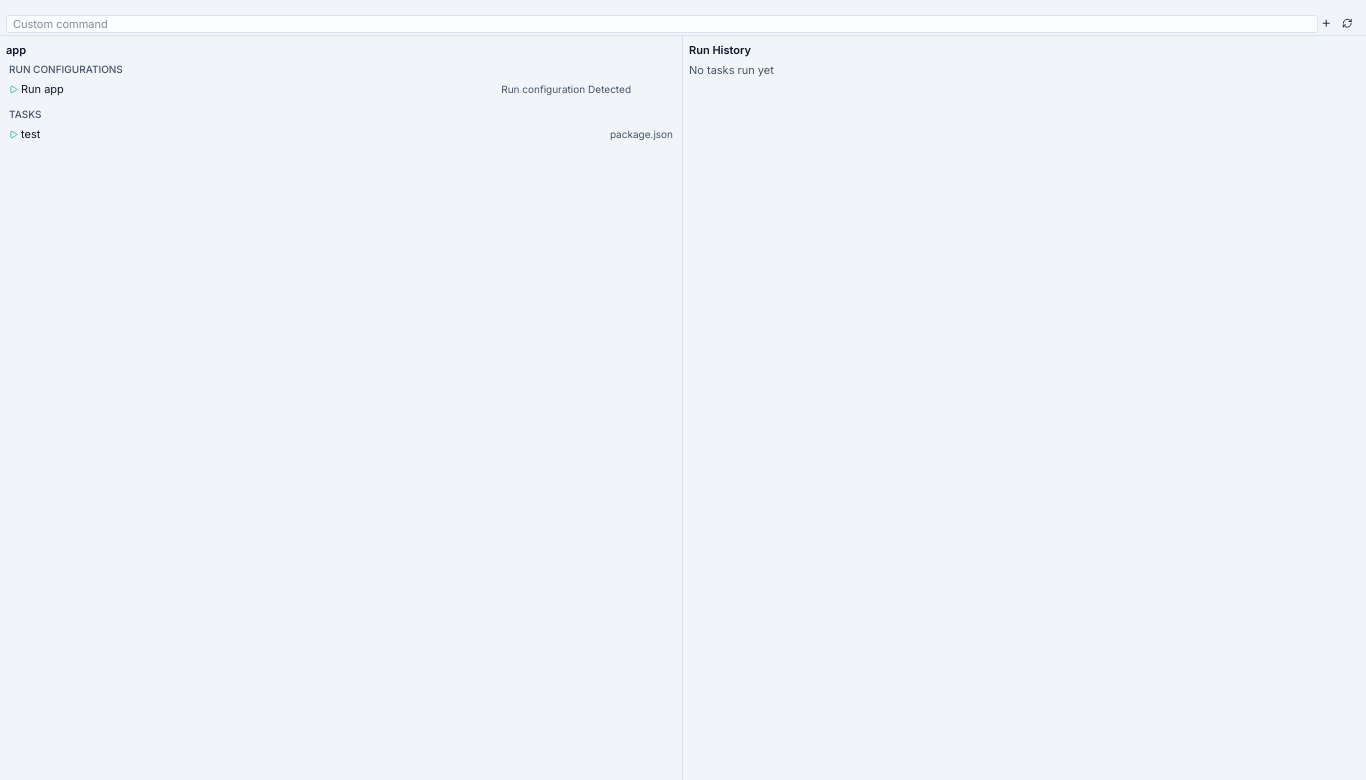
RunPanel › reports dotenv read failures in Run History without launching
What coordinates should you click on to do the following:
click the text "Run app"
I would click on:
 (42, 89)
Its box is [21,81,64,98].
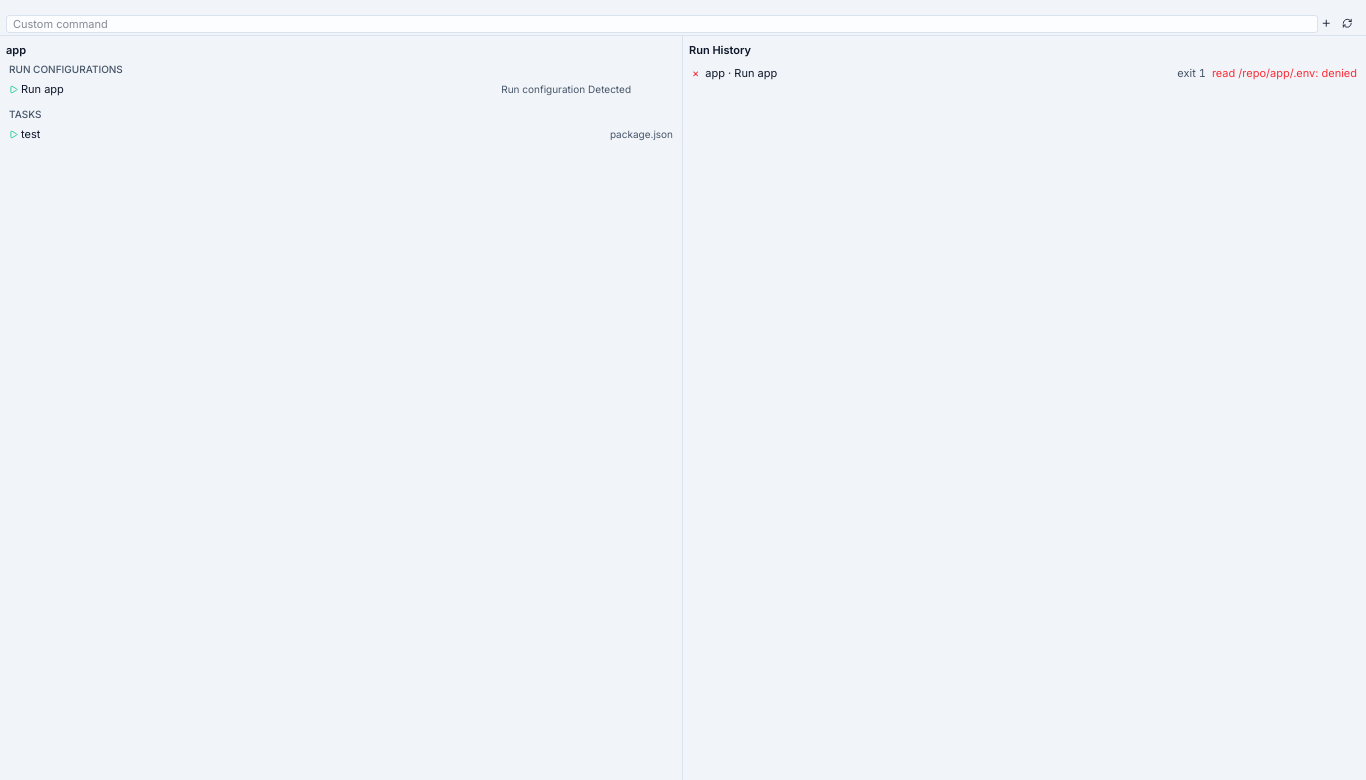
Now the text "read /repo/app/.env: denied" is shown, box [1212,64,1357,81]
